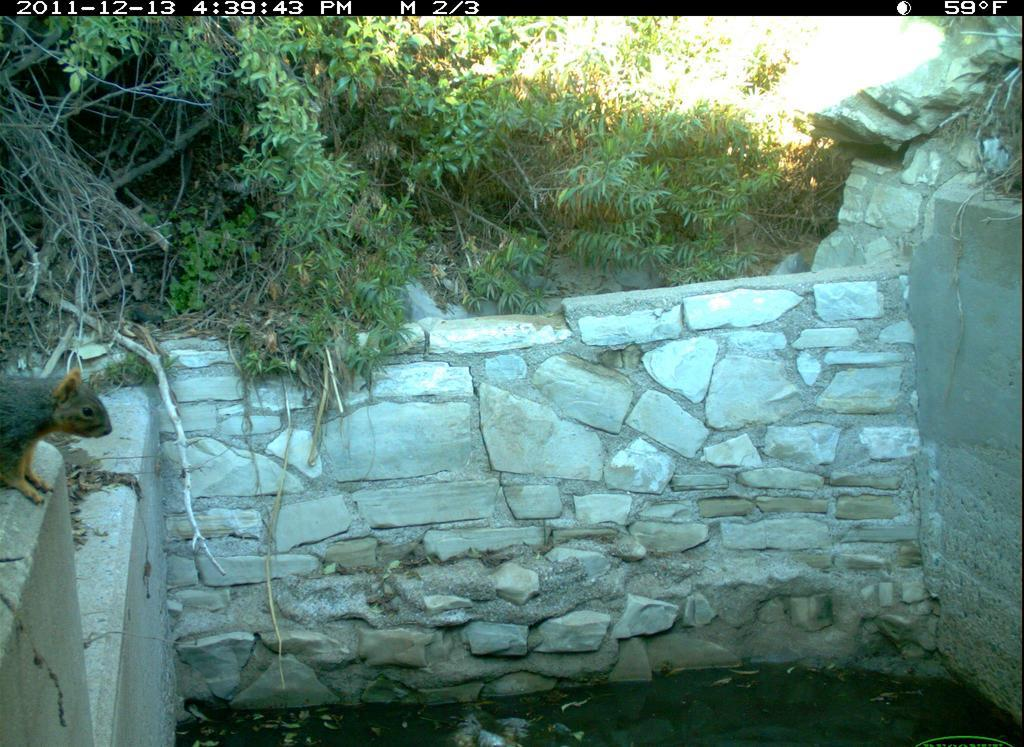squirrel: (2, 360, 121, 543)
